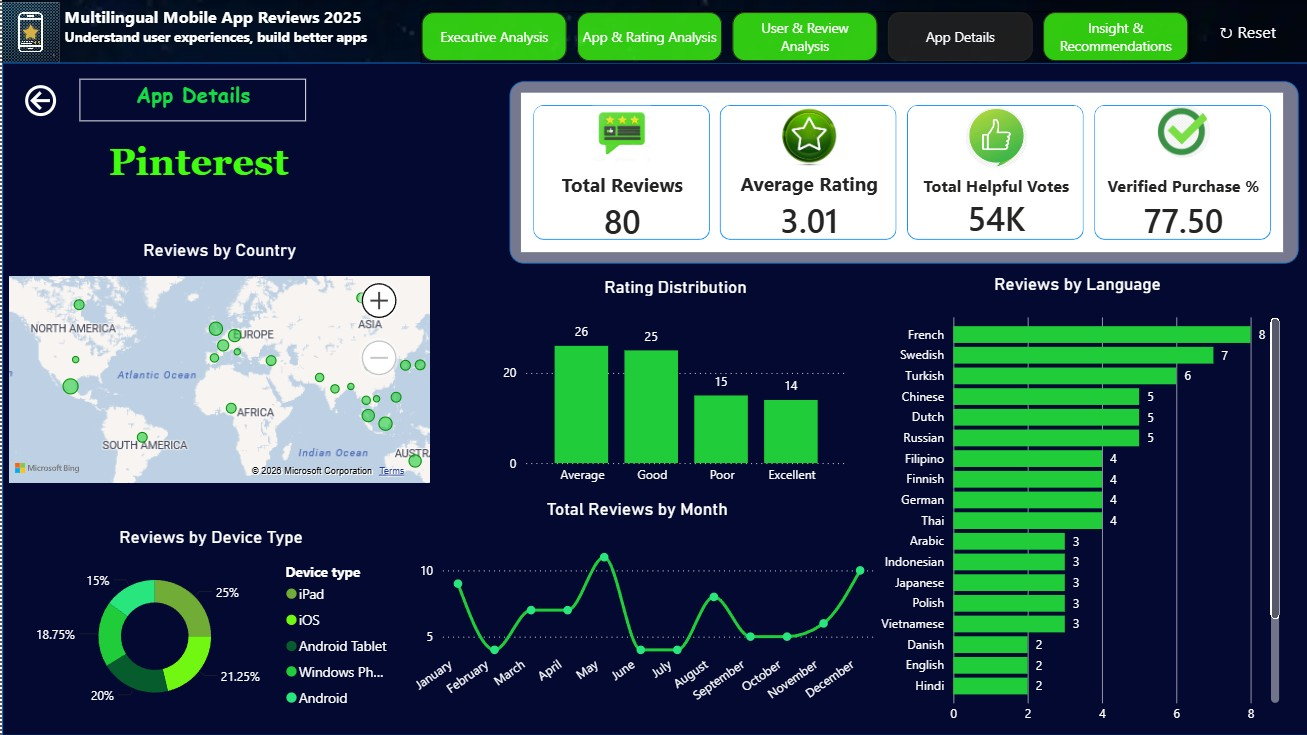

The page's visual inventory and layout, read from the dashboard file:
{"tool":"powerbi","page":{"name":"App Details","canvas":[1280,720],"ordinal":3},"visuals":[{"type":"image","box":[0,0,1280,720],"z":0},{"type":"image","box":[0,2.4,56.3,58.7],"z":1000},{"type":"textbox","box":[55.8,0,315.1,61.6],"z":2000},{"type":"shape","box":[0,61.2,1278.8,658.8],"z":3000},{"type":"actionButton","box":[0,78.3,75.8,40.4],"z":4000},{"type":"barChart","title":" Reviews by Language","fields":{"Category":["multilingual_mobile_app_reviews_2025.Review_language"],"Y":["Measure_Table.Total Reviews"]},"box":[849.9,267.8,404.8,448.8],"z":5000},{"type":"clusteredColumnChart","title":" Rating Distribution","fields":{"Y":["Measure_Table.Total Reviews"],"Category":["multilingual_mobile_app_reviews_2025.Rating_Cateogory"]},"box":[485.5,270.2,347.3,212.8],"z":6000},{"type":"donutChart","title":"Reviews by Device Type","fields":{"Category":["multilingual_mobile_app_reviews_2025.Device_type"],"Y":["Measure_Table.Total Reviews"]},"box":[17.5,515,375,185],"z":7000},{"type":"cardVisual","fields":{"Data":["Measure_Table.Total_Reviews","Measure_Table.Average_Rating","Measure_Table.Total_Helpful_votes","Measure_Table.Total_verified_Purchase"]},"box":[496.5,79.5,771.6,178.5],"z":8000},{"type":"lineChart","fields":{"Y":["Measure_Table.Total Reviews"],"Category":["multilingual_mobile_app_reviews_2025.Review_date.Variation.Date Hierarchy.Month"]},"box":[383.8,487.5,475,215],"z":9000},{"type":"textbox","box":[28.8,137.5,326.2,87.5],"z":10000},{"type":"pageNavigator","box":[409,11.1,752.5,50],"z":11000},{"type":"map","title":"Reviews by Country","fields":{"Category":["multilingual_mobile_app_reviews_2025.User_country"],"Size":["Measure_Table.Total Reviews"]},"box":[2.5,235,421.2,252.5],"z":12000},{"type":"textbox","title":"App Details","box":[76.2,77.5,221.2,41.2],"z":13000},{"type":"actionButton","title":"↻ Reset","box":[1168.7,11.1,100.2,40.3],"z":14000}]}

Visuals, with their boxes in screenshot pixels (x1, y1, x2, y2), scaled from the page's 1280x720 canvas onto the 1307x735 screenshot:
image: pyautogui.locateOnScreen(0, 0, 1306, 734)
image: pyautogui.locateOnScreen(0, 2, 57, 62)
textbox: pyautogui.locateOnScreen(57, 0, 379, 63)
shape: pyautogui.locateOnScreen(0, 62, 1306, 734)
actionButton: pyautogui.locateOnScreen(0, 80, 77, 121)
" Reviews by Language" barChart: pyautogui.locateOnScreen(868, 273, 1281, 732)
" Rating Distribution" clusteredColumnChart: pyautogui.locateOnScreen(496, 276, 850, 493)
"Reviews by Device Type" donutChart: pyautogui.locateOnScreen(18, 526, 401, 715)
cardVisual - Measure_Table.Total_Reviews x Measure_Table.Average_Rating: pyautogui.locateOnScreen(507, 81, 1295, 263)
lineChart - Measure_Table.Total Reviews x multilingual_mobile_app_reviews_2025.Review_date.Variation.Date Hierarchy.Month: pyautogui.locateOnScreen(392, 498, 877, 717)
textbox: pyautogui.locateOnScreen(29, 140, 362, 230)
pageNavigator: pyautogui.locateOnScreen(418, 11, 1186, 62)
"Reviews by Country" map: pyautogui.locateOnScreen(3, 240, 433, 498)
"App Details" textbox: pyautogui.locateOnScreen(78, 79, 304, 121)
"↻ Reset" actionButton: pyautogui.locateOnScreen(1193, 11, 1296, 52)
